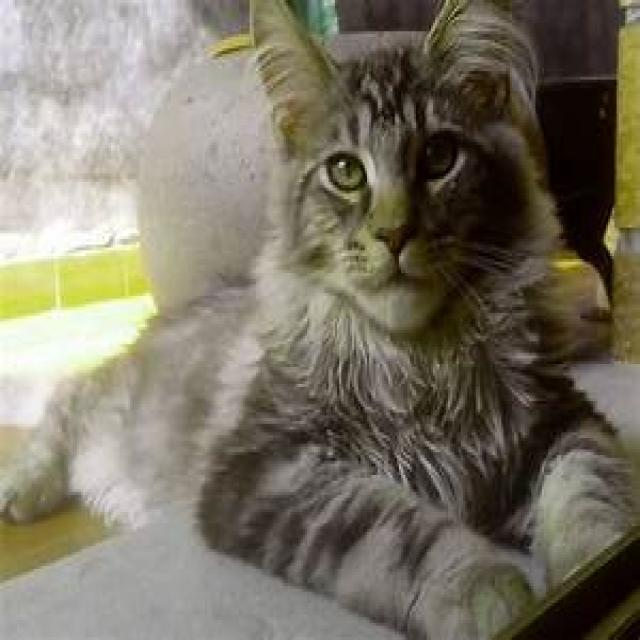animal: (2, 0, 636, 637)
